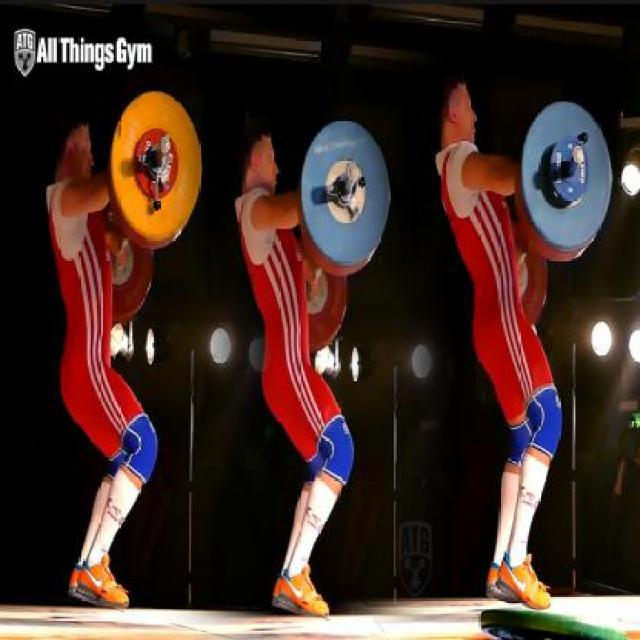barbell: (514, 92, 619, 264), (298, 112, 396, 276), (108, 85, 205, 249)
